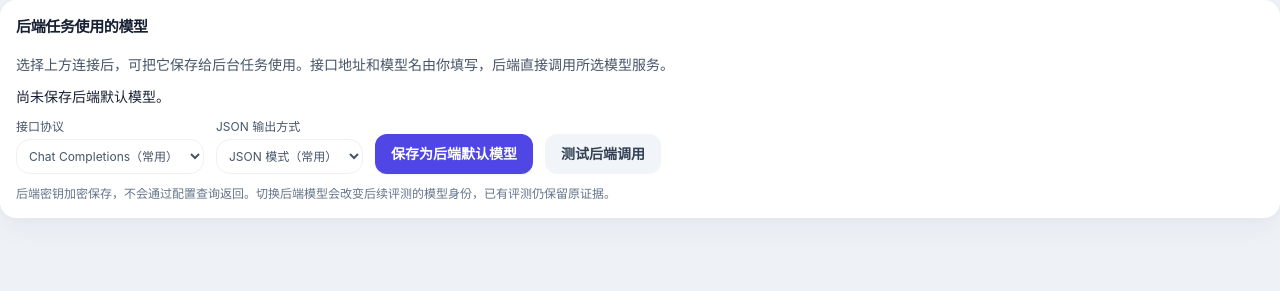
Scenario: custom model for backend tasks › tests a draft without saving it or claiming task acceptance
Click the button "测试后端调用": x=603, y=154 [545,134,661,174]
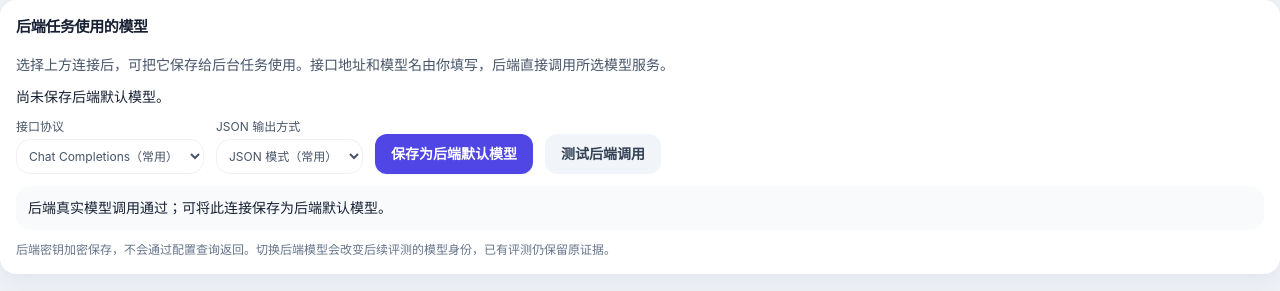
Expected: the text "后端真实模型调用通过" is shown, [28,198,392,216]
